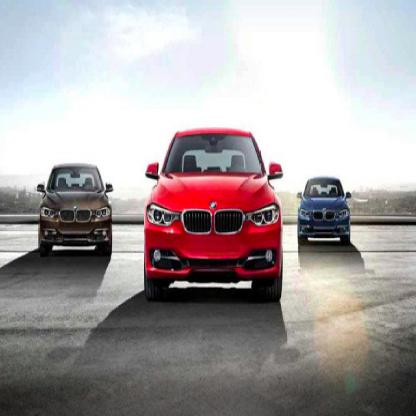Vehicle: (146, 131, 284, 308)
